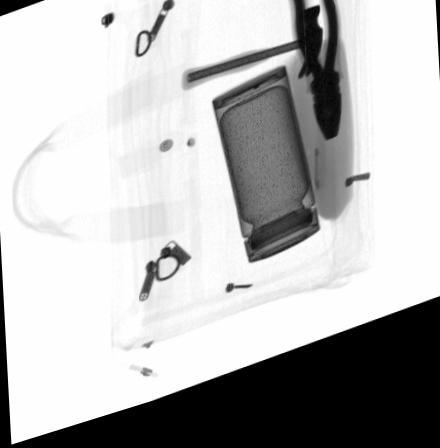Hammer: (182, 23, 324, 103)
Pliers: (285, 0, 345, 160)
